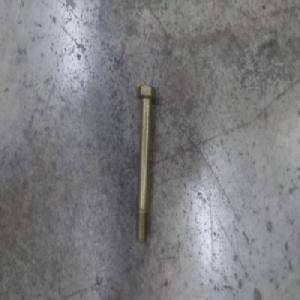Bolt: (134, 81, 157, 246)
